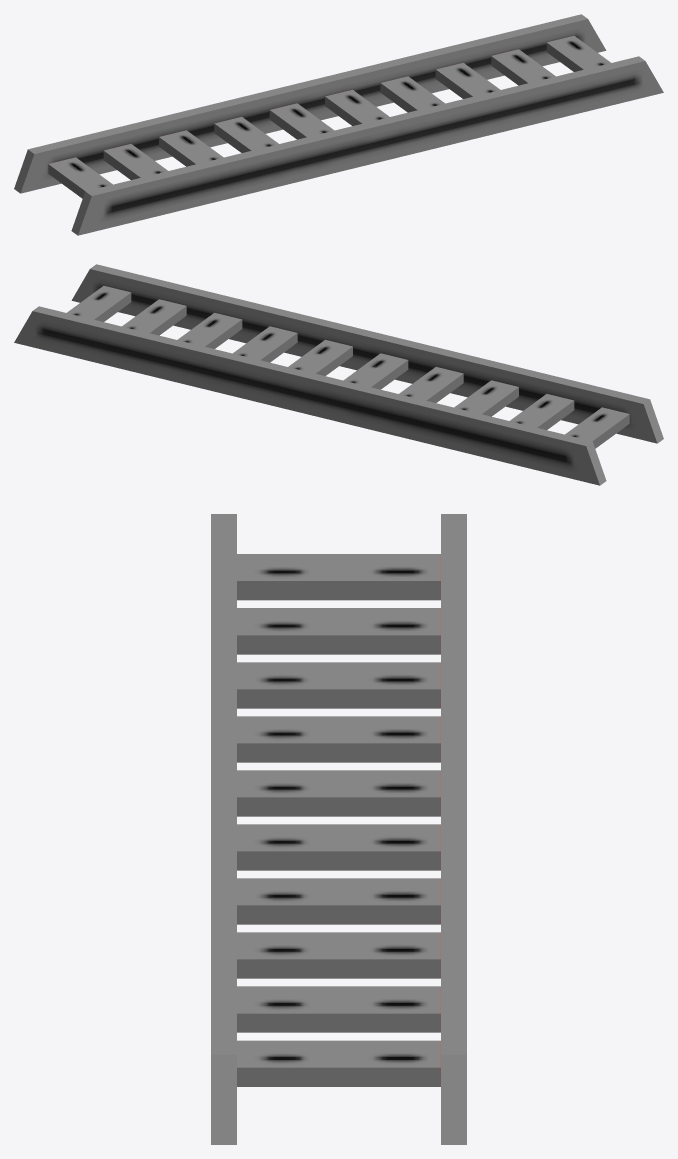
File: FireTruckLadder.fbx
3 views of the same model, one above another, from view 1: azimuth 30°, elevation 25°; view 2: azimuth 150°, elevation 25°; view 3: azimuth 270°, elevation 25° (orthographic). The views are drawn at different scales.
Parts seen in each view (by area): view 1: FireTruckLadder; view 2: FireTruckLadder; view 3: FireTruckLadder.
Boxes of the visible parts, <box> form: FireTruckLadder: <box>14,14,663,235</box>; FireTruckLadder: <box>14,264,663,485</box>; FireTruckLadder: <box>211,514,466,1144</box>.
Bounding box in the file's own units: 2032 × 120 × 384.
Materials: 1 (1 with a texture image).
